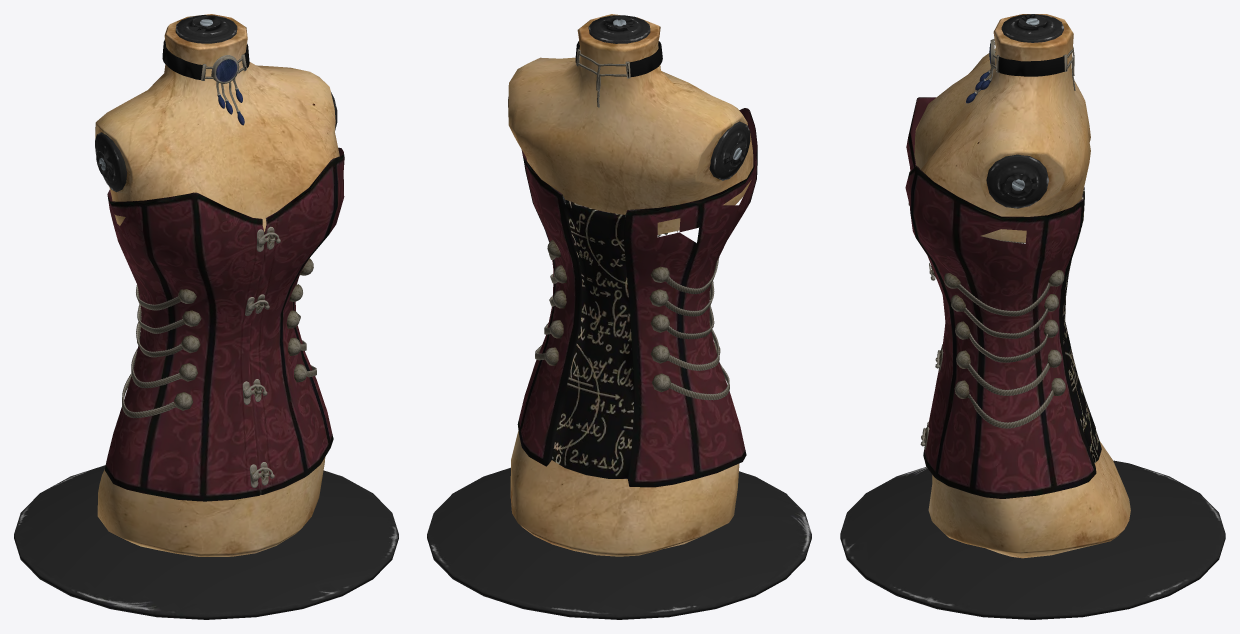
3 renders of one model, left to right at view 1: azimuth 30°, elevation 25°; view 2: azimuth 150°, elevation 25°; view 3: azimuth 270°, elevation 25°, orthographic.
Parts seen in each view (by area): view 1: AZHO_Product; view 2: AZHO_Product; view 3: AZHO_Product.
Boxes of the visible parts, box(x1,y1,x2,y2) form: AZHO_Product: box(14, 14, 398, 619); AZHO_Product: box(427, 14, 811, 619); AZHO_Product: box(840, 14, 1225, 619).
Bounding box in the file's own units: 0.039 × 0.0578 × 0.039.
Materials: 1 (1 with a texture image).
